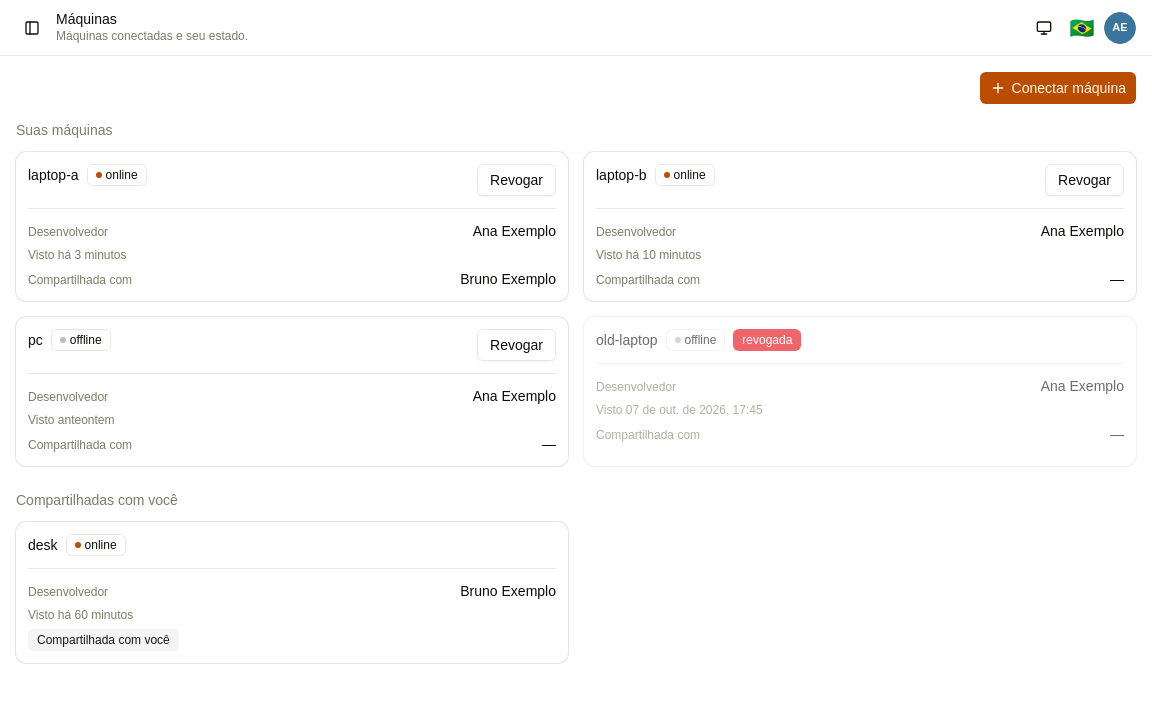
it: connect machine dialog › maps 400 to the invalid-code message
Click the button "Conectar máquina" at {"x": 1058, "y": 88}, box [980,72,1136,104]
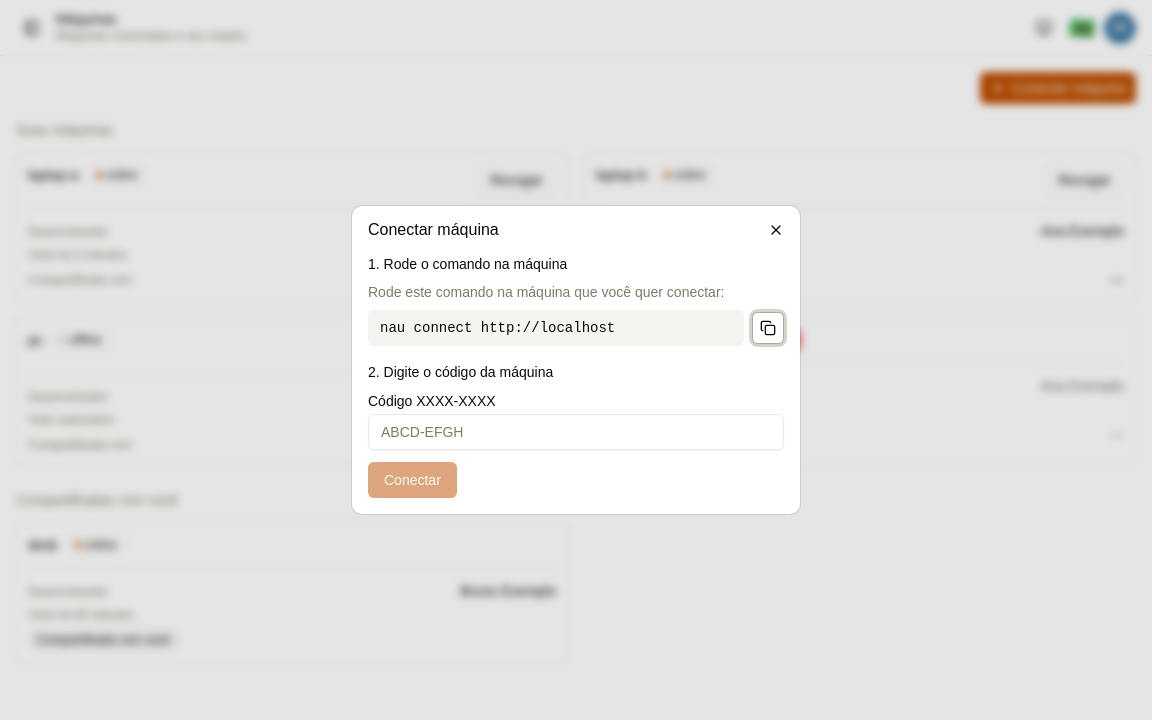
Type "zzzz-zzzz" into the field labelled "Código XXXX-XXXX" at {"x": 576, "y": 432}, box [368,414,784,450]
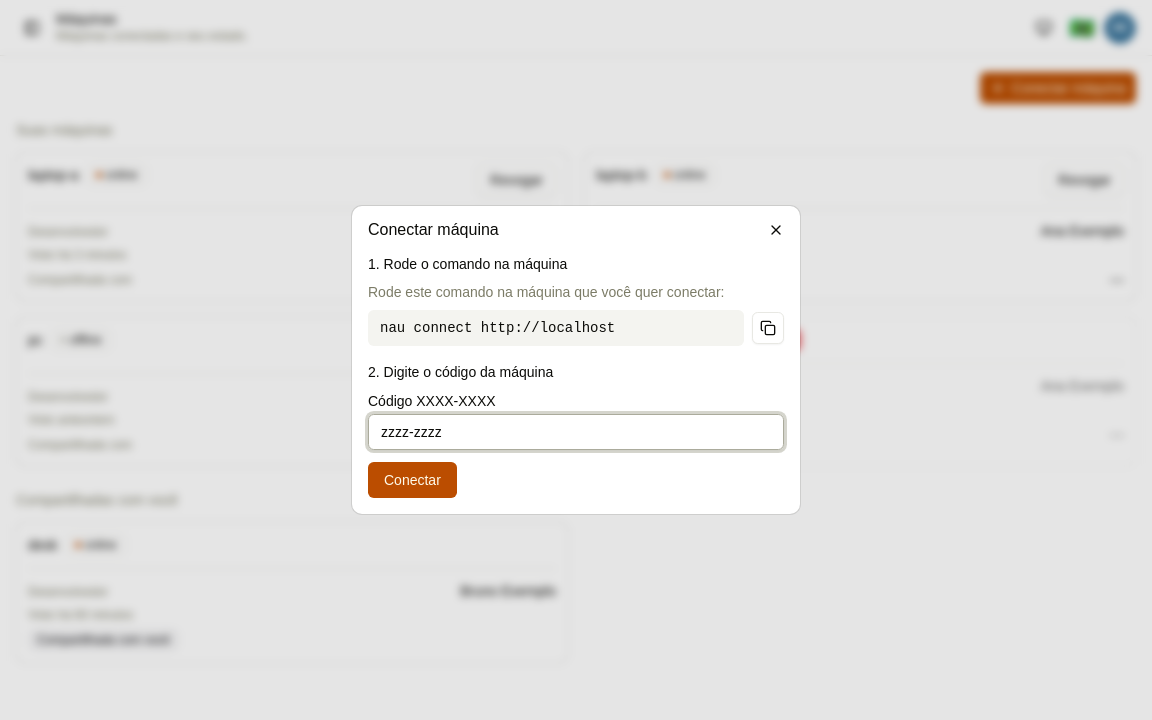
Click the button "Conectar" at {"x": 412, "y": 480}, box [368,462,457,498]
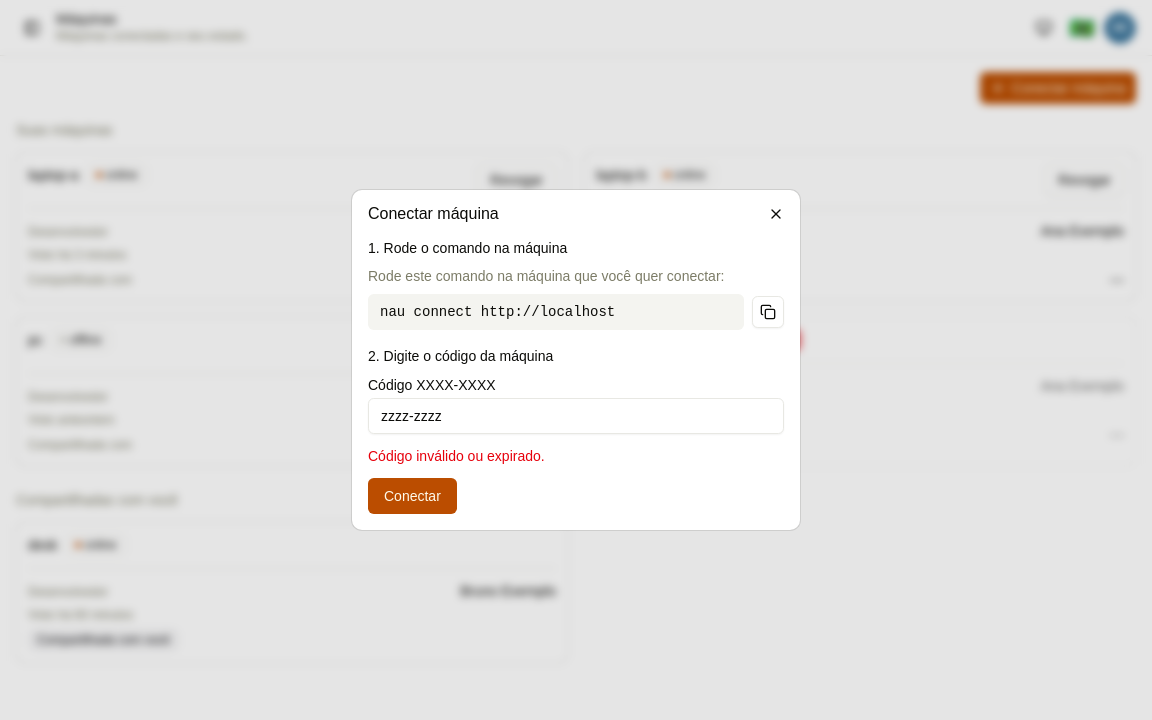
Expected: the message reads "Código inválido ou expirado.", [368,448,545,464]
